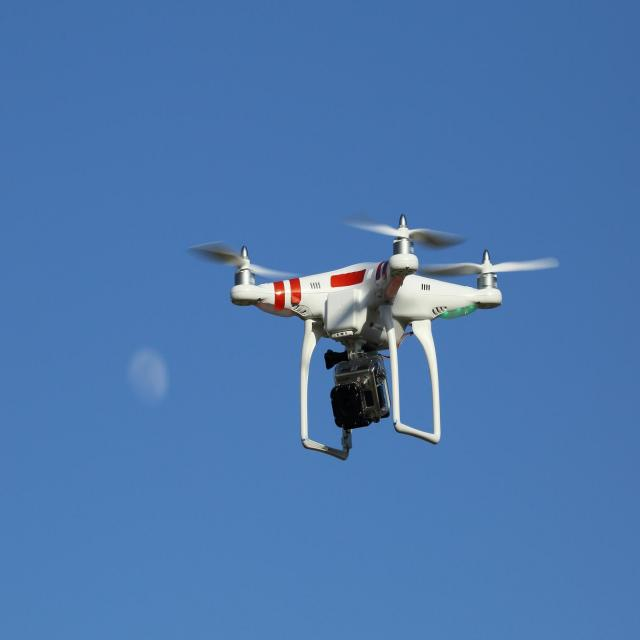UAV: (229, 214, 503, 464)
